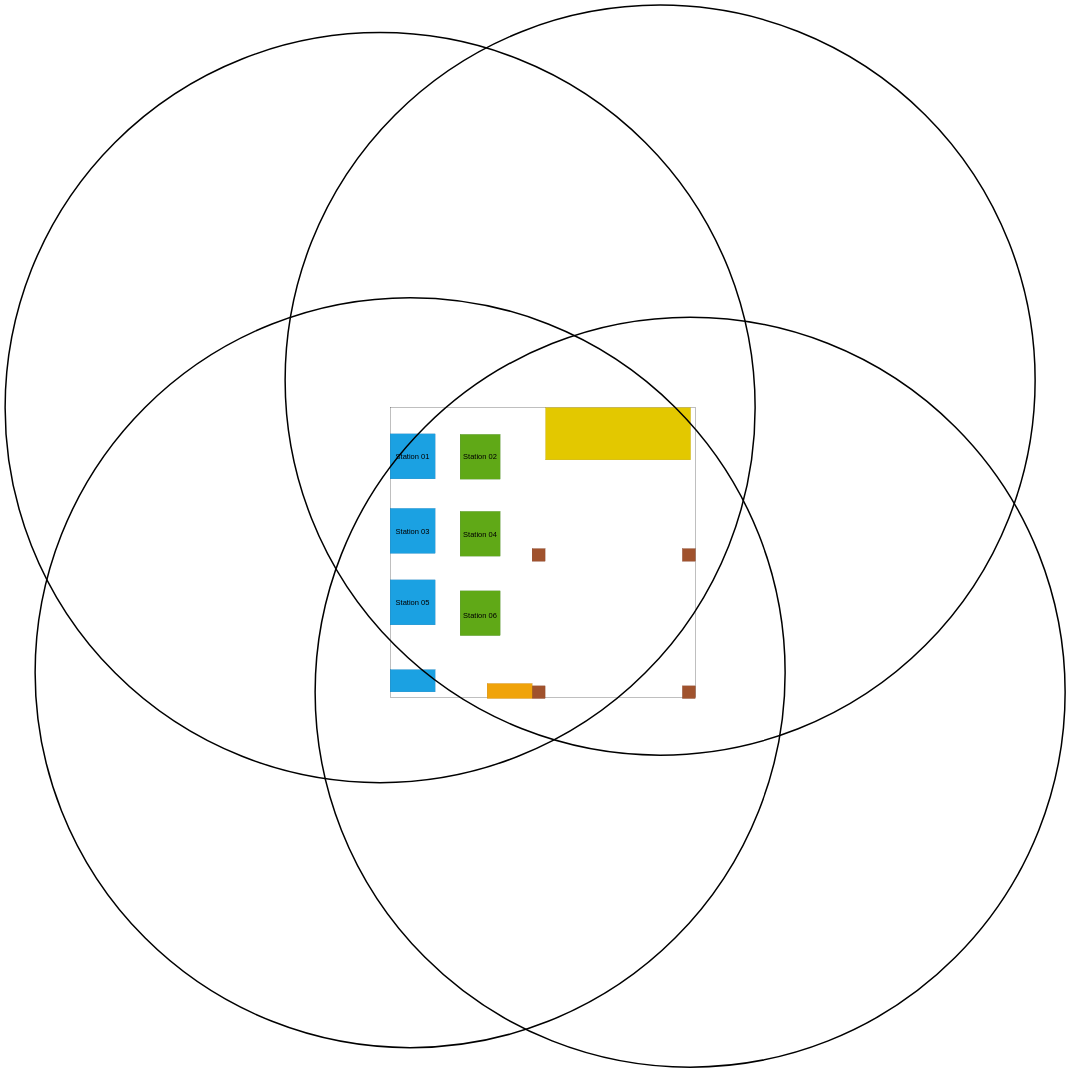
This 1070x1072 diagram has some shape labels left out. The shapes that lost their labels are listed below. From the top down, each one's centre as x and y in pixels, then its label:
At [618,433]: "Stage".
At [412,680]: "Station 07".
At [509,690]: "Station 08".
